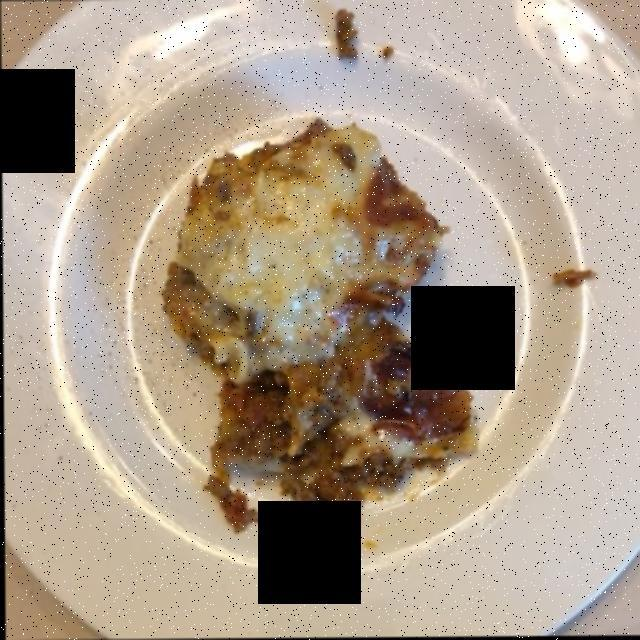lasagne: (165, 126, 471, 517)
